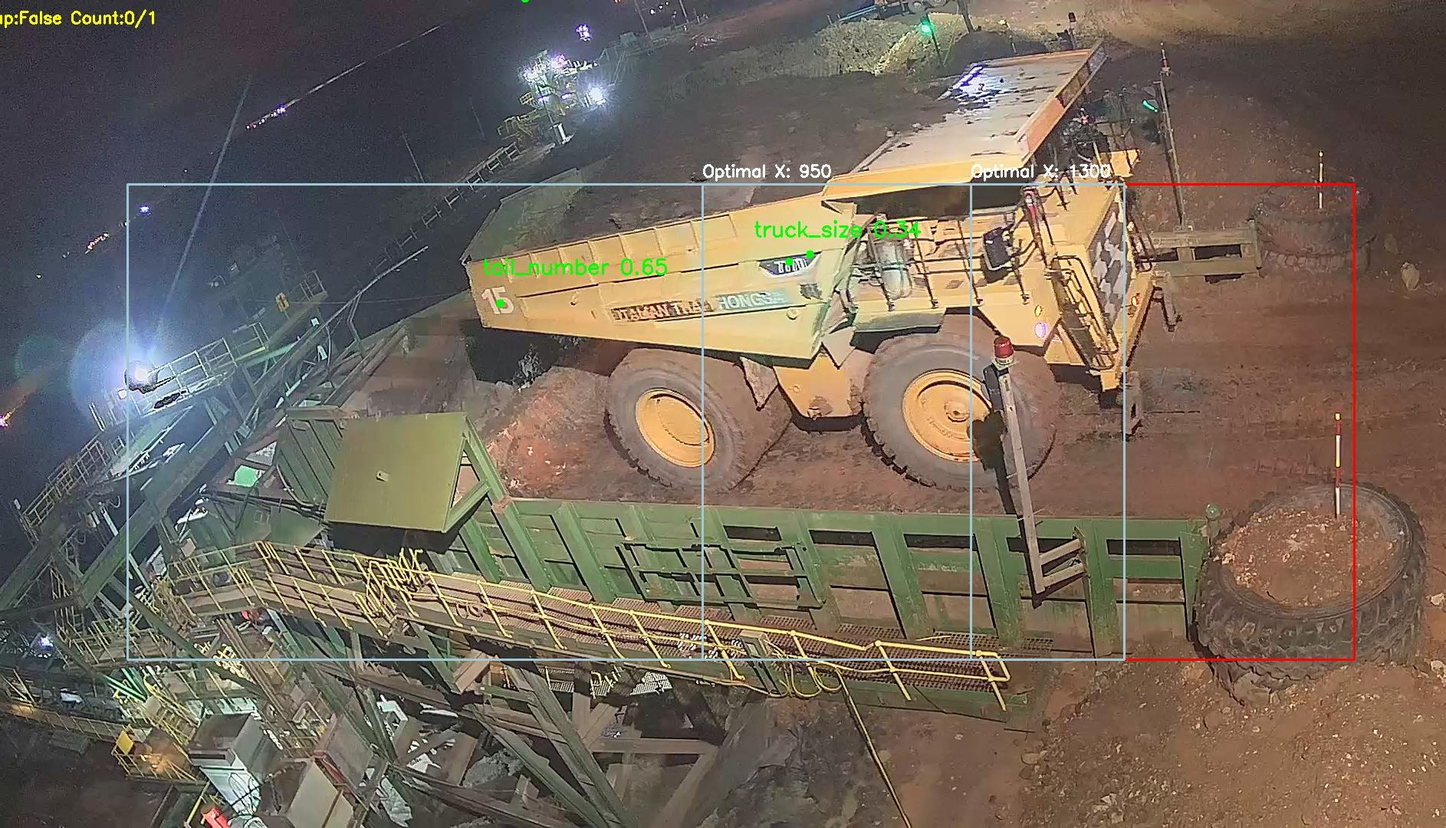company: (602, 284, 811, 331)
full_load: (598, 60, 949, 220)
mining_truck: (451, 24, 1159, 506)
tail_number: (476, 278, 518, 324)
truck_size: (759, 251, 818, 280)
